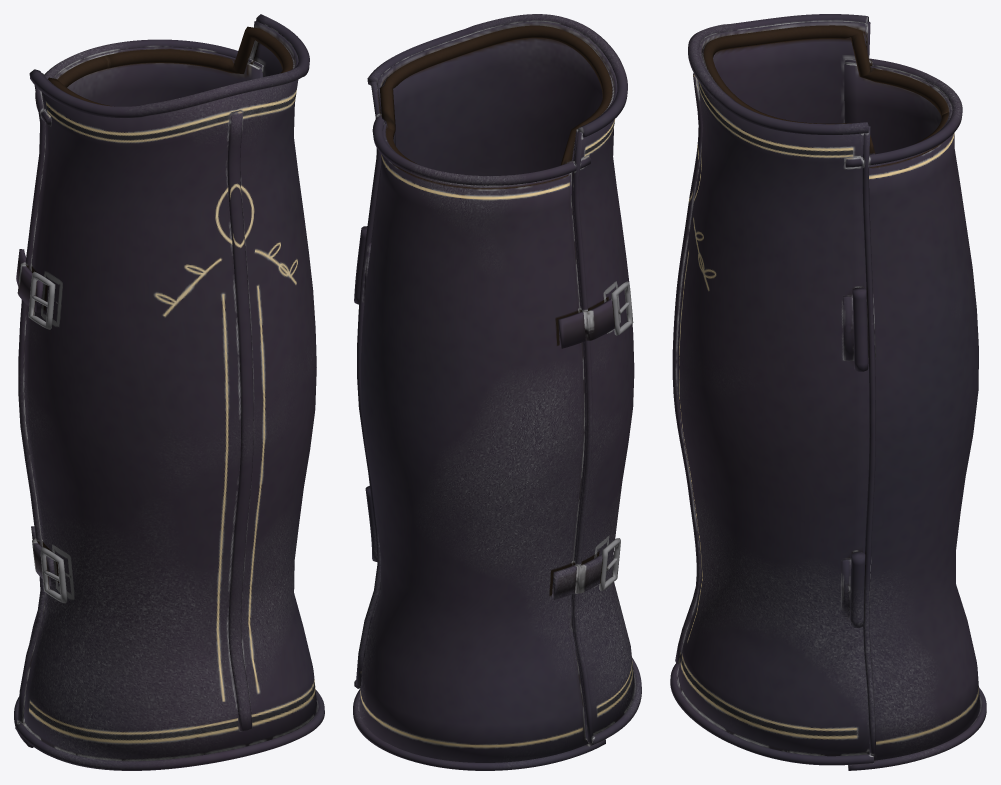
File: SM_ObsidianSovereign_Shins_L.fbx
The picture shows the model from 3 angles, left to right: view 1: azimuth 30°, elevation 25°; view 2: azimuth 150°, elevation 25°; view 3: azimuth 270°, elevation 25°; orthographic projection. The views are drawn at different scales.
Parts seen in each view (by area): view 1: SM_ObsidianSovereign_Shins_L; view 2: SM_ObsidianSovereign_Shins_L; view 3: SM_ObsidianSovereign_Shins_L.
Part boxes in pixels (box(x1,y1,x2,y2)): SM_ObsidianSovereign_Shins_L: box(14, 14, 324, 770); SM_ObsidianSovereign_Shins_L: box(353, 14, 641, 770); SM_ObsidianSovereign_Shins_L: box(670, 14, 986, 770).
Size of the model in its own units: 14.5 by 15.27 by 35.52.
